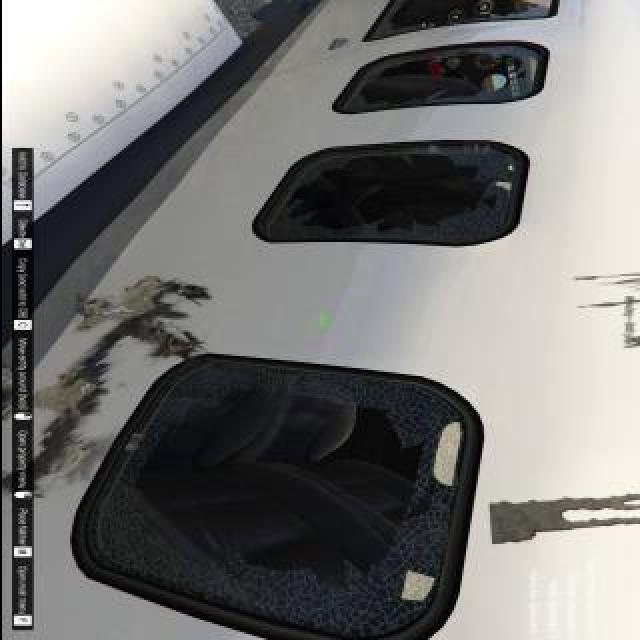dent: (59, 279, 211, 389), (486, 498, 638, 549), (34, 385, 97, 497)
